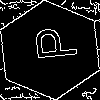P: (25, 25, 78, 63)
